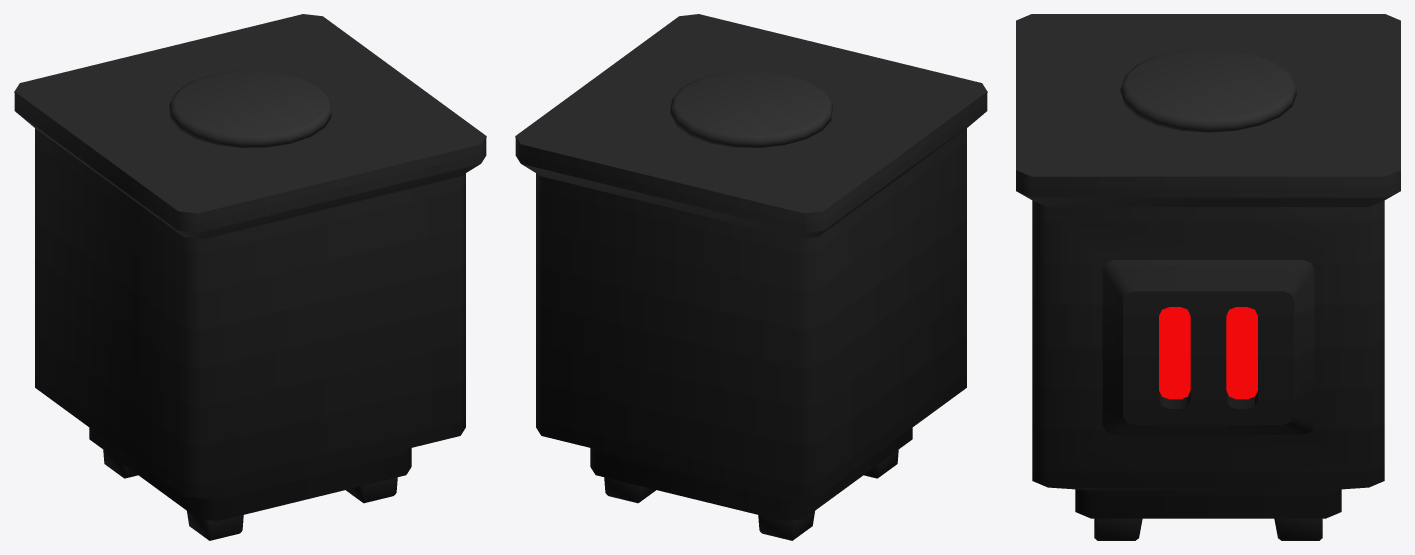
File: Cooker.glb
The picture shows the model from 3 angles, left to right: view 1: azimuth 30°, elevation 25°; view 2: azimuth 150°, elevation 25°; view 3: azimuth 270°, elevation 25°; orthographic projection. The views are drawn at different scales.
Parts seen in each view (by area): view 1: Cooker; view 2: Cooker; view 3: Cooker.
Part boxes in pixels (<box>): Cooker: <box>14,14,486,540</box>; Cooker: <box>515,14,987,540</box>; Cooker: <box>1016,14,1400,540</box>.
Size of the model in its own units: 0.8946 by 1.02 by 0.8736.
Materials: 2 (1 with a texture image).
